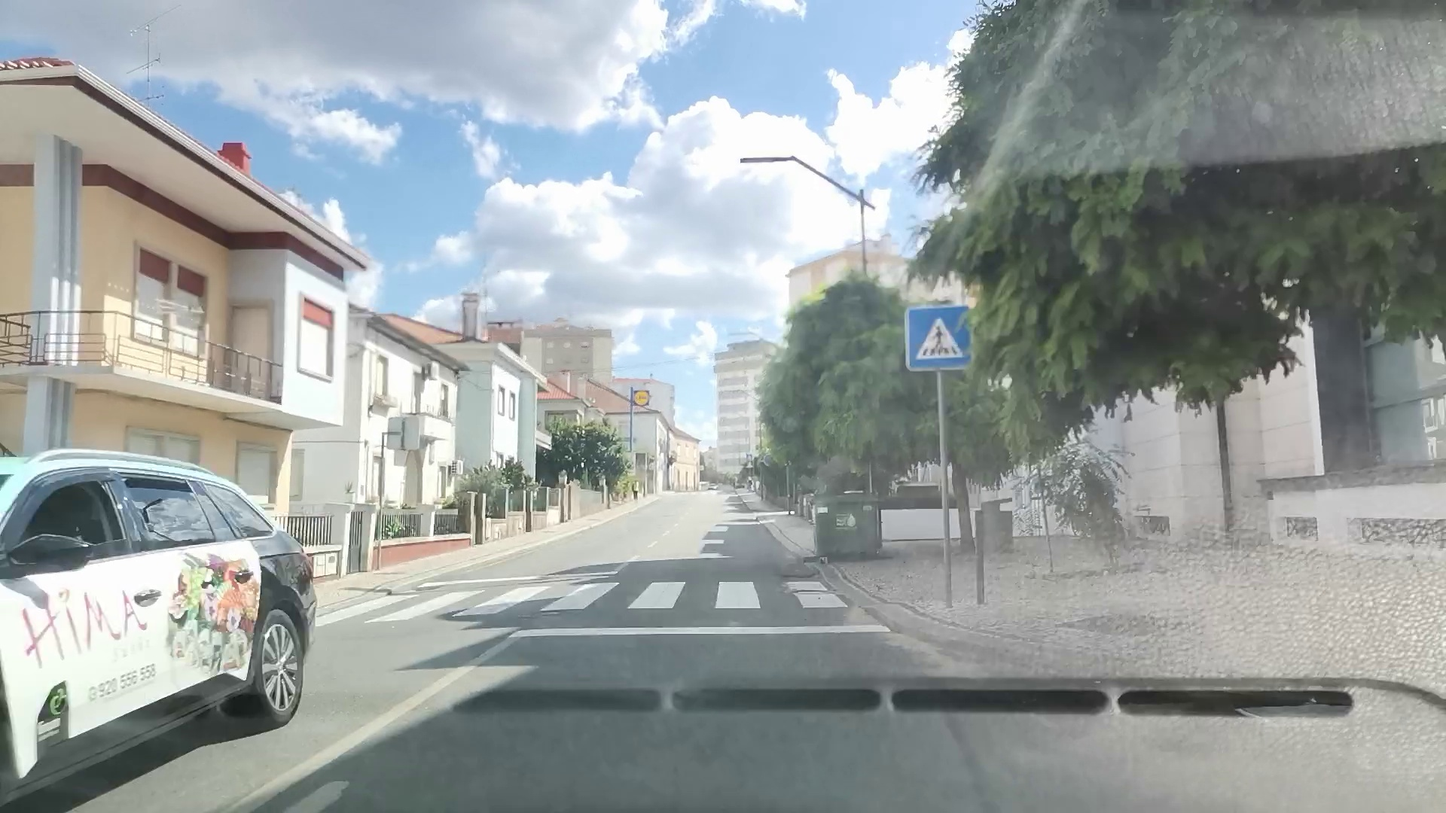Stairs: (310, 582, 856, 626)
